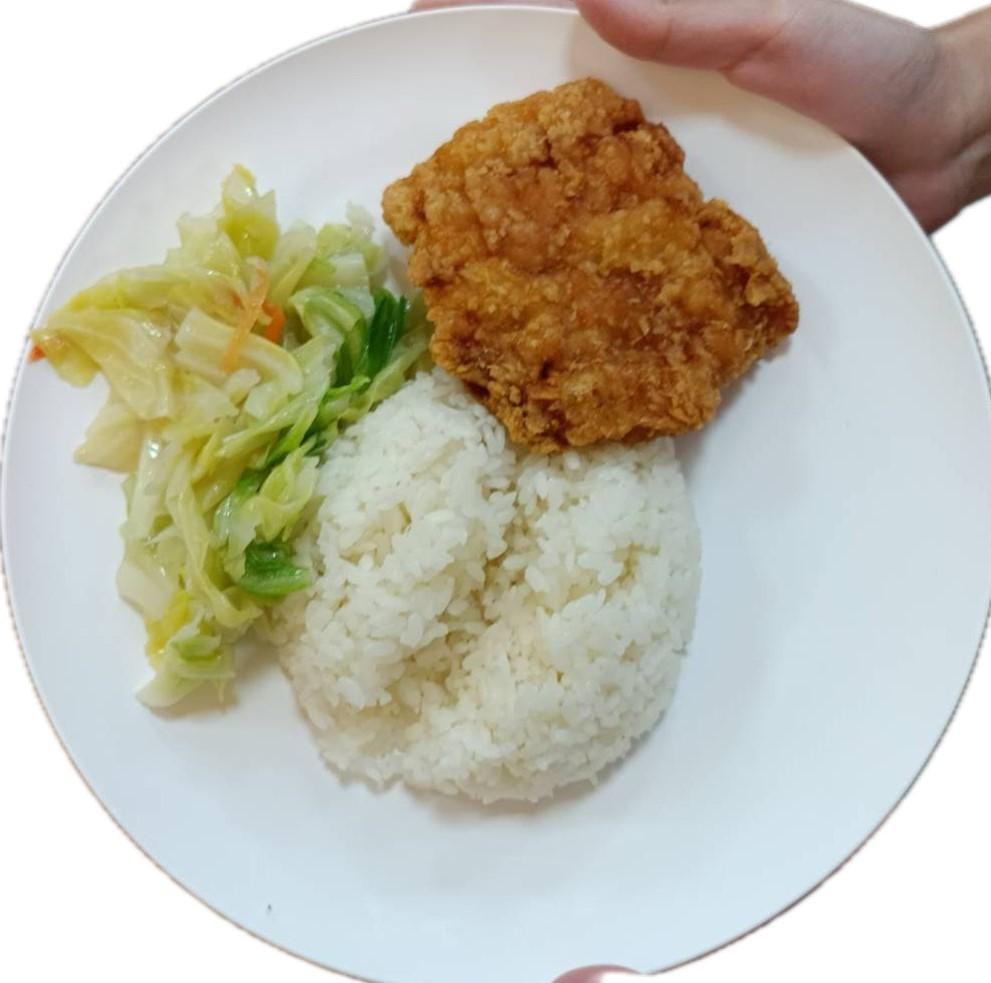big fried chicken leg: (12, 6, 991, 983)
big herbal chicken leg: (284, 378, 702, 814)
braised fish fillet: (27, 168, 412, 723)
braised pork: (382, 64, 803, 457)
